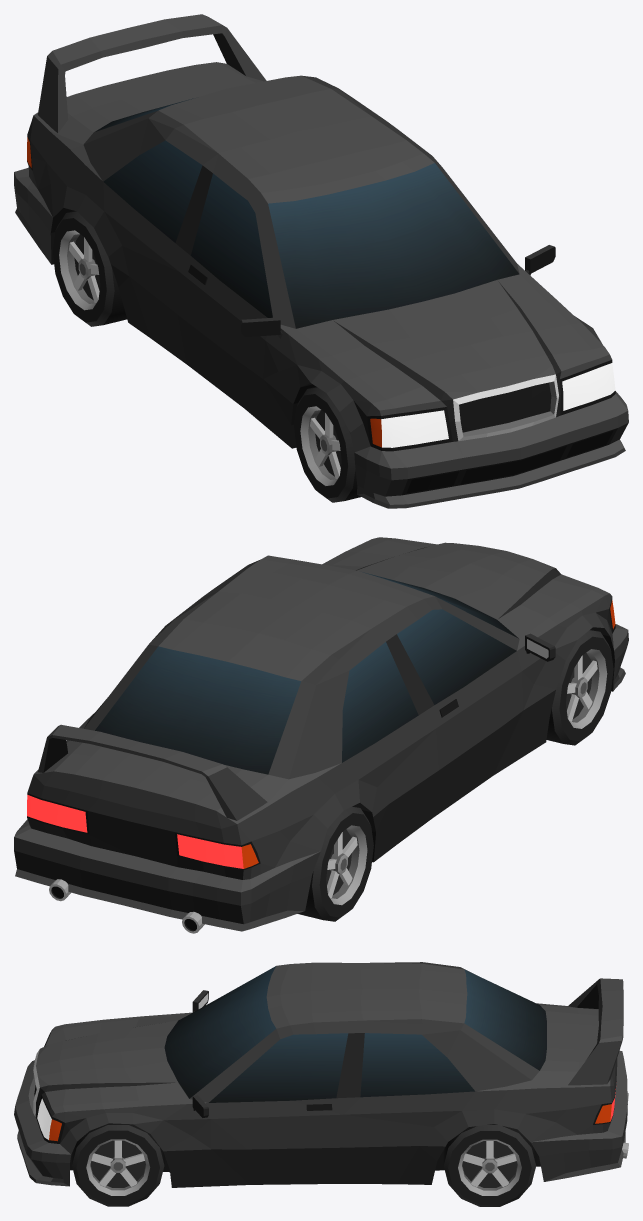
Rendered from mercedes_benz_w124.glb.
The picture shows the model from 3 angles, top to bottom: view 1: azimuth 30°, elevation 25°; view 2: azimuth 150°, elevation 25°; view 3: azimuth 270°, elevation 25°; orthographic projection. The views are drawn at different scales.
Visible parts, largest first — view 1: Body, RRW_mesh, FRW_mesh; view 2: Body, RRW_mesh, FRW_mesh; view 3: Body, RLW_mesh, FLW_mesh.
Part boxes in pixels (box(x1,y1,x2,y2)): Body: box(14, 14, 628, 508); RRW_mesh: box(52, 211, 126, 326); FRW_mesh: box(294, 386, 360, 502); Body: box(14, 537, 628, 933); RRW_mesh: box(297, 806, 373, 921); FRW_mesh: box(546, 629, 613, 745); Body: box(14, 962, 628, 1187); RLW_mesh: box(443, 1124, 536, 1206); FLW_mesh: box(72, 1123, 164, 1206).
Size of the model in its own units: 190 by 127 by 417.
Materials: 8 (2 with a texture image).
